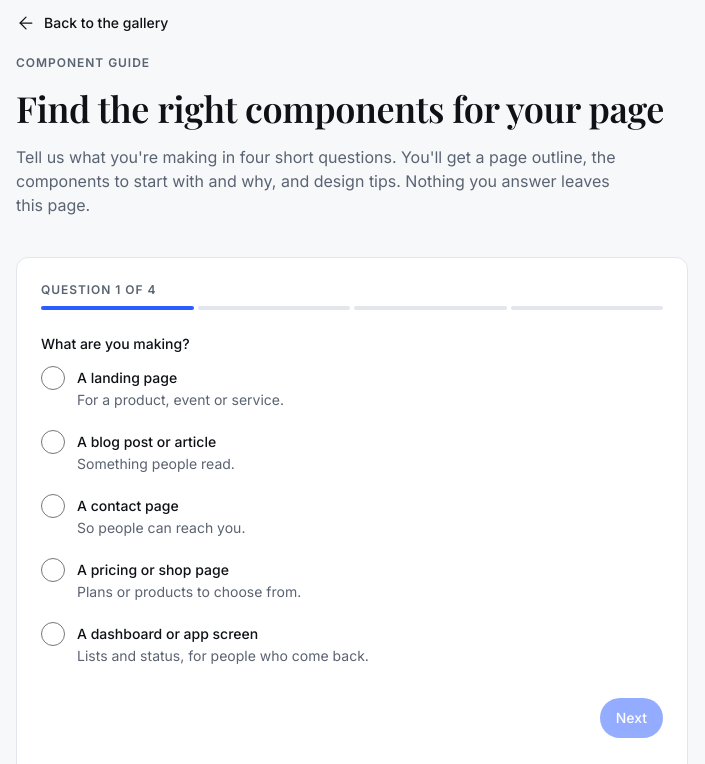
Find your components page › moves through the questions with Next and Back, keeping answers, and focuses the new question
Click the radio button labelled "A blog post or article" at (53, 442), box x1=41 y1=430 x2=65 y2=454
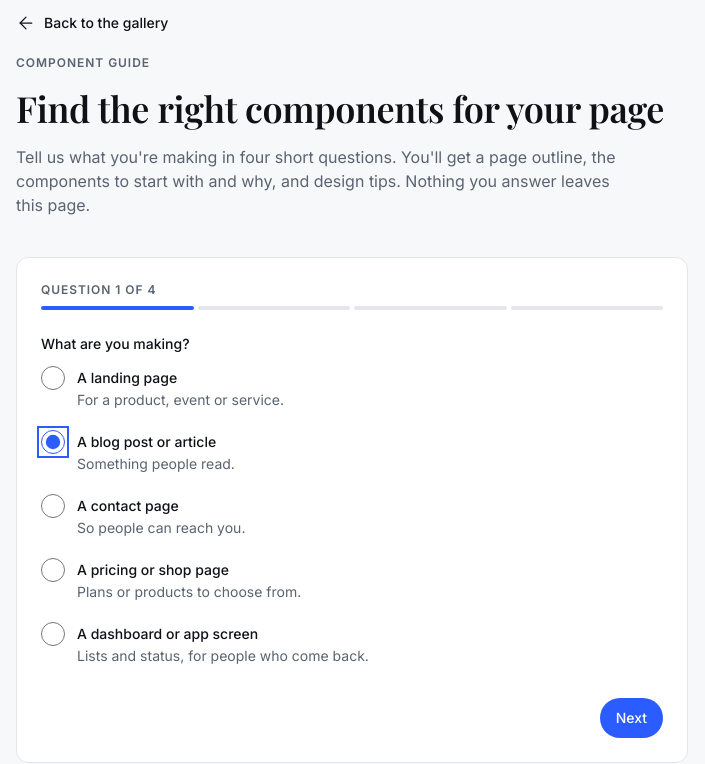
Click the button "Next" at (631, 718), box x1=600 y1=698 x2=663 y2=738
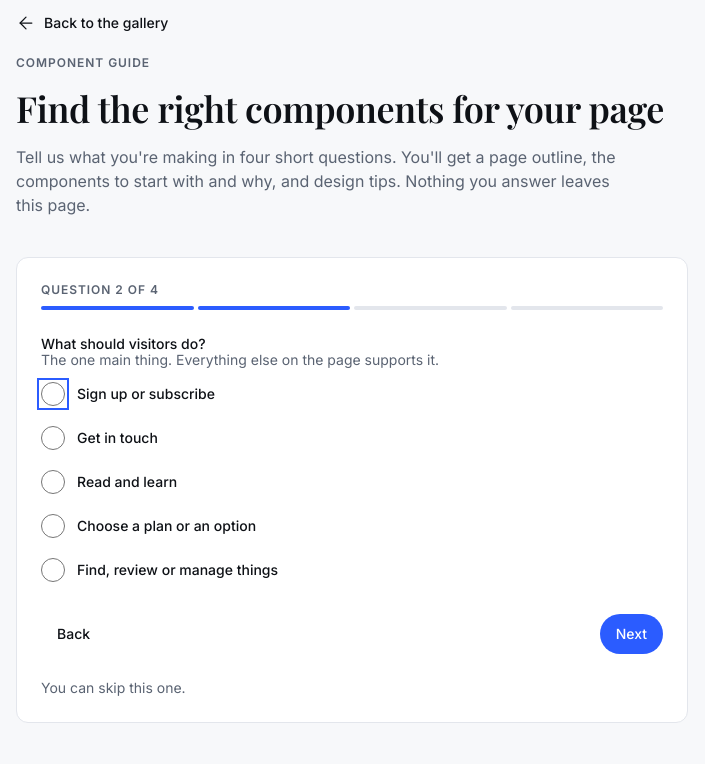
Expected: the button "Next" is enabled, x1=600 y1=614 x2=663 y2=654
Expected: the heading "Question 2 of 4" is shown, x1=41 y1=282 x2=159 y2=297
Click the button "Back" at (74, 634), box x1=41 y1=614 x2=106 y2=654
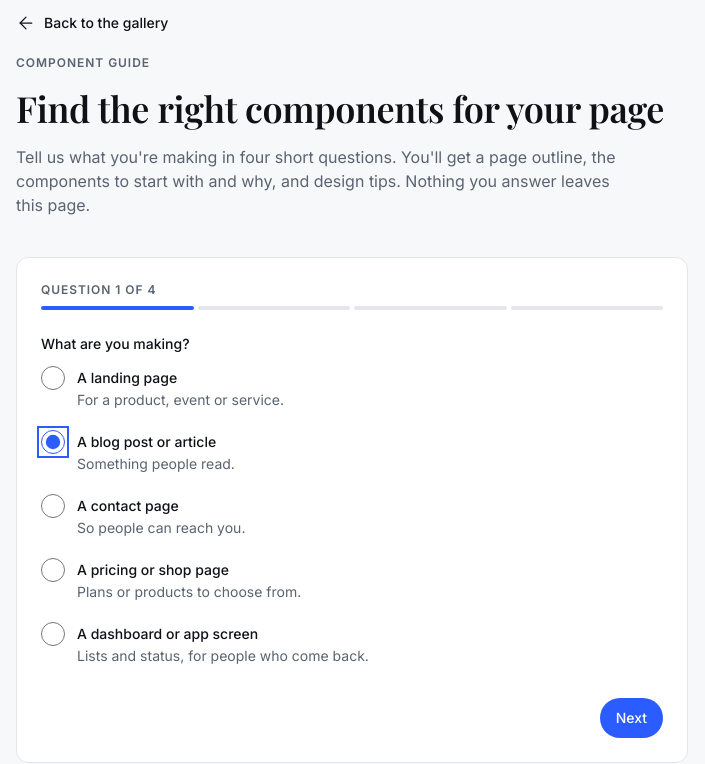
Expected: the radio button labelled "A blog post or article" is checked, x1=41 y1=430 x2=65 y2=454
